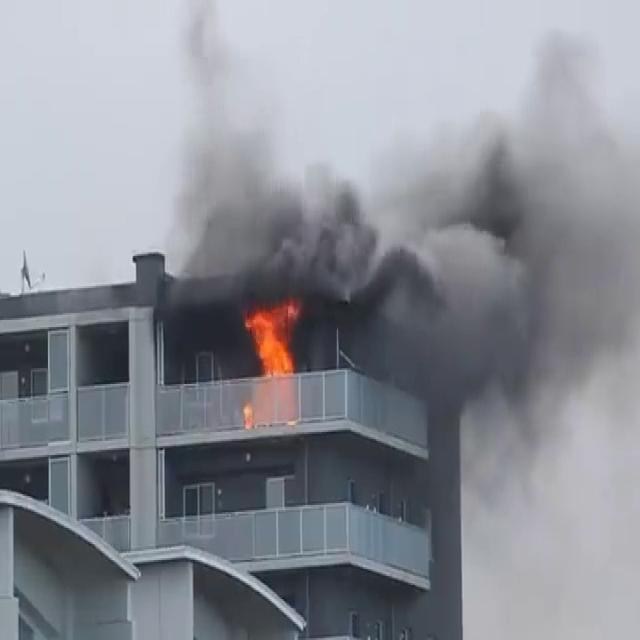Fire: (240, 294, 305, 382)
Smoke: (152, 64, 640, 427)
